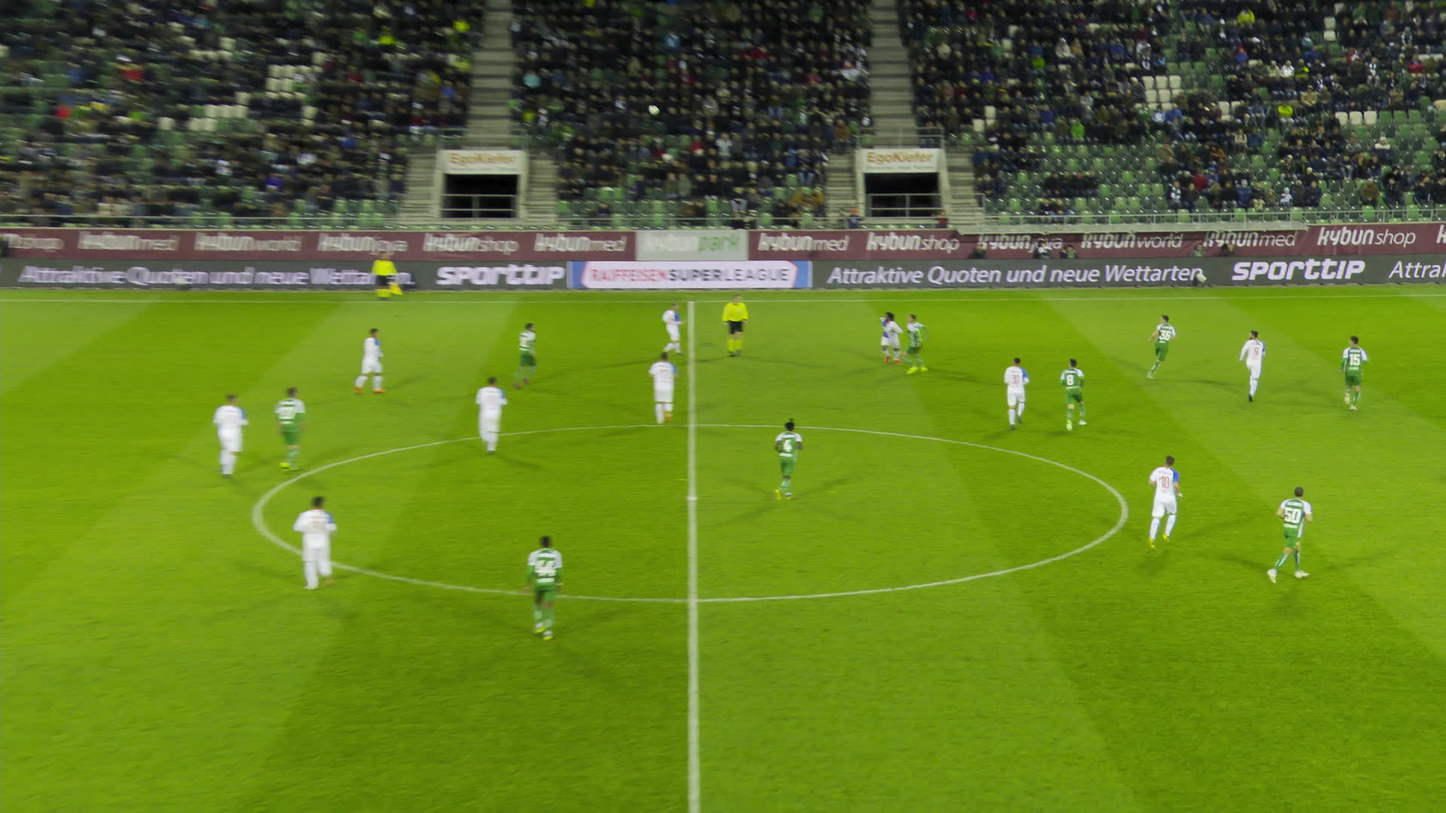ball: (644, 101, 654, 110)
player: (1264, 486, 1311, 578), (535, 534, 575, 638), (302, 493, 343, 589), (1149, 453, 1185, 542), (220, 391, 257, 477), (279, 386, 313, 468), (1237, 333, 1271, 405), (484, 378, 516, 453), (777, 421, 806, 501), (657, 349, 686, 426), (1152, 312, 1183, 377), (1339, 334, 1365, 411), (1005, 359, 1033, 428), (520, 322, 549, 385), (1060, 358, 1086, 428), (366, 328, 392, 397), (875, 311, 905, 360), (906, 315, 930, 376), (666, 303, 686, 355)
referee: (729, 299, 755, 359), (375, 252, 407, 300)
